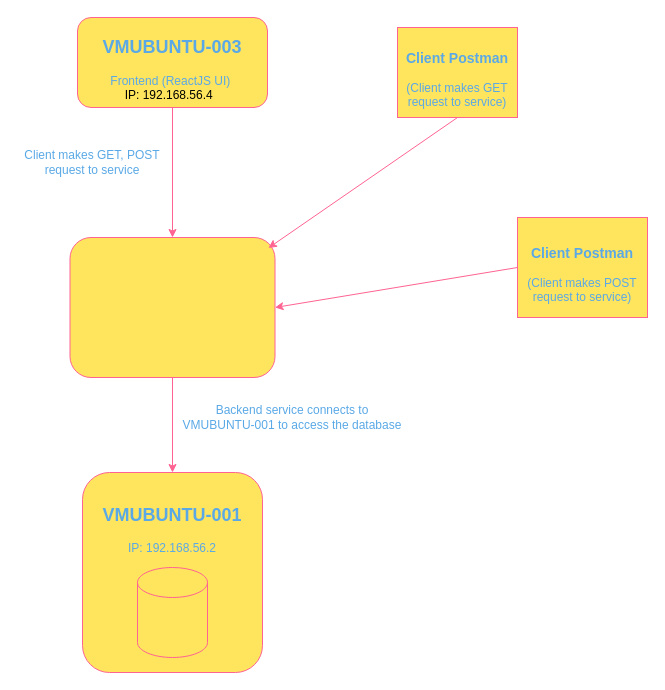
Some shapes in this 665 by 690 pixel diagram are drawn without their labels. The shapes that lost their labels are listed below. From the top down, each one's centre as x and y in pixels, then its label:
(172,307): VMUBUNTU-002 Node.js Backend API IP: 192.168.56.3
(172,612): MySQL Database
